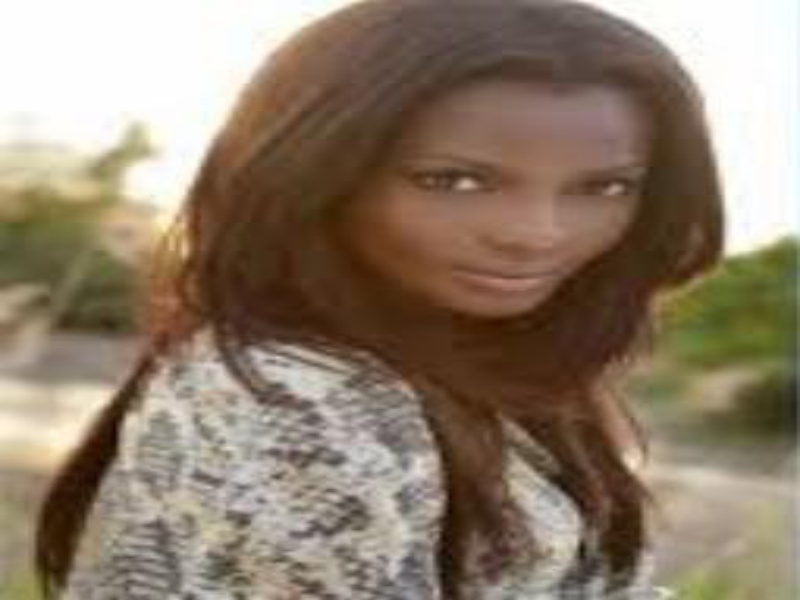TsisyArotava: (354, 29, 719, 351)
